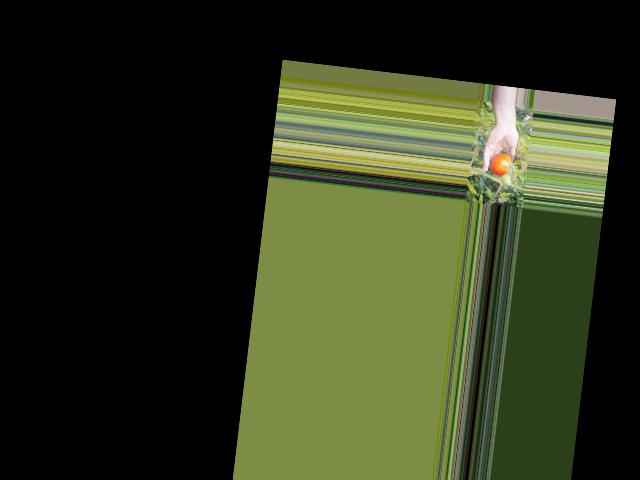tomato: (489, 151, 512, 177)
